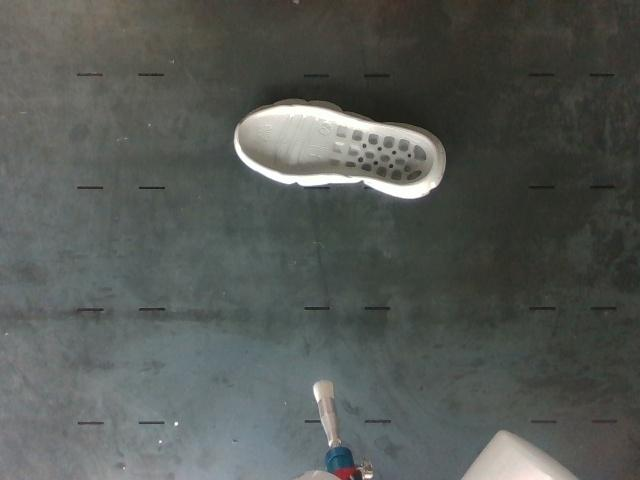shoes: (237, 105, 436, 187)
